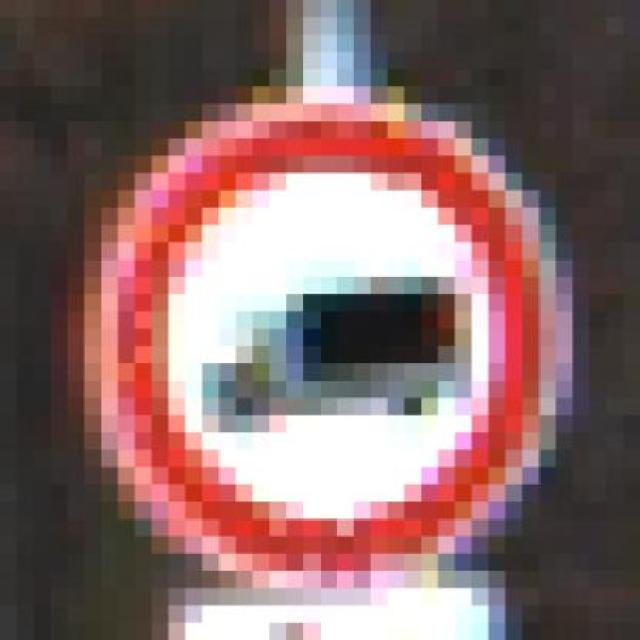Truck traffic is prohibited: (38, 48, 611, 584)
